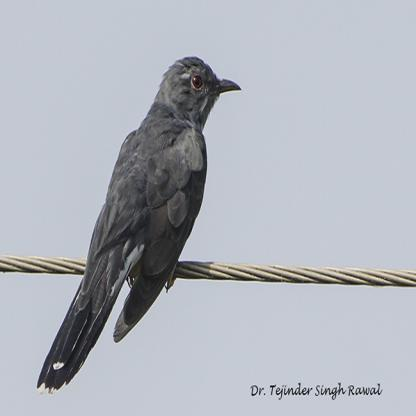Burung: (36, 56, 240, 392)
